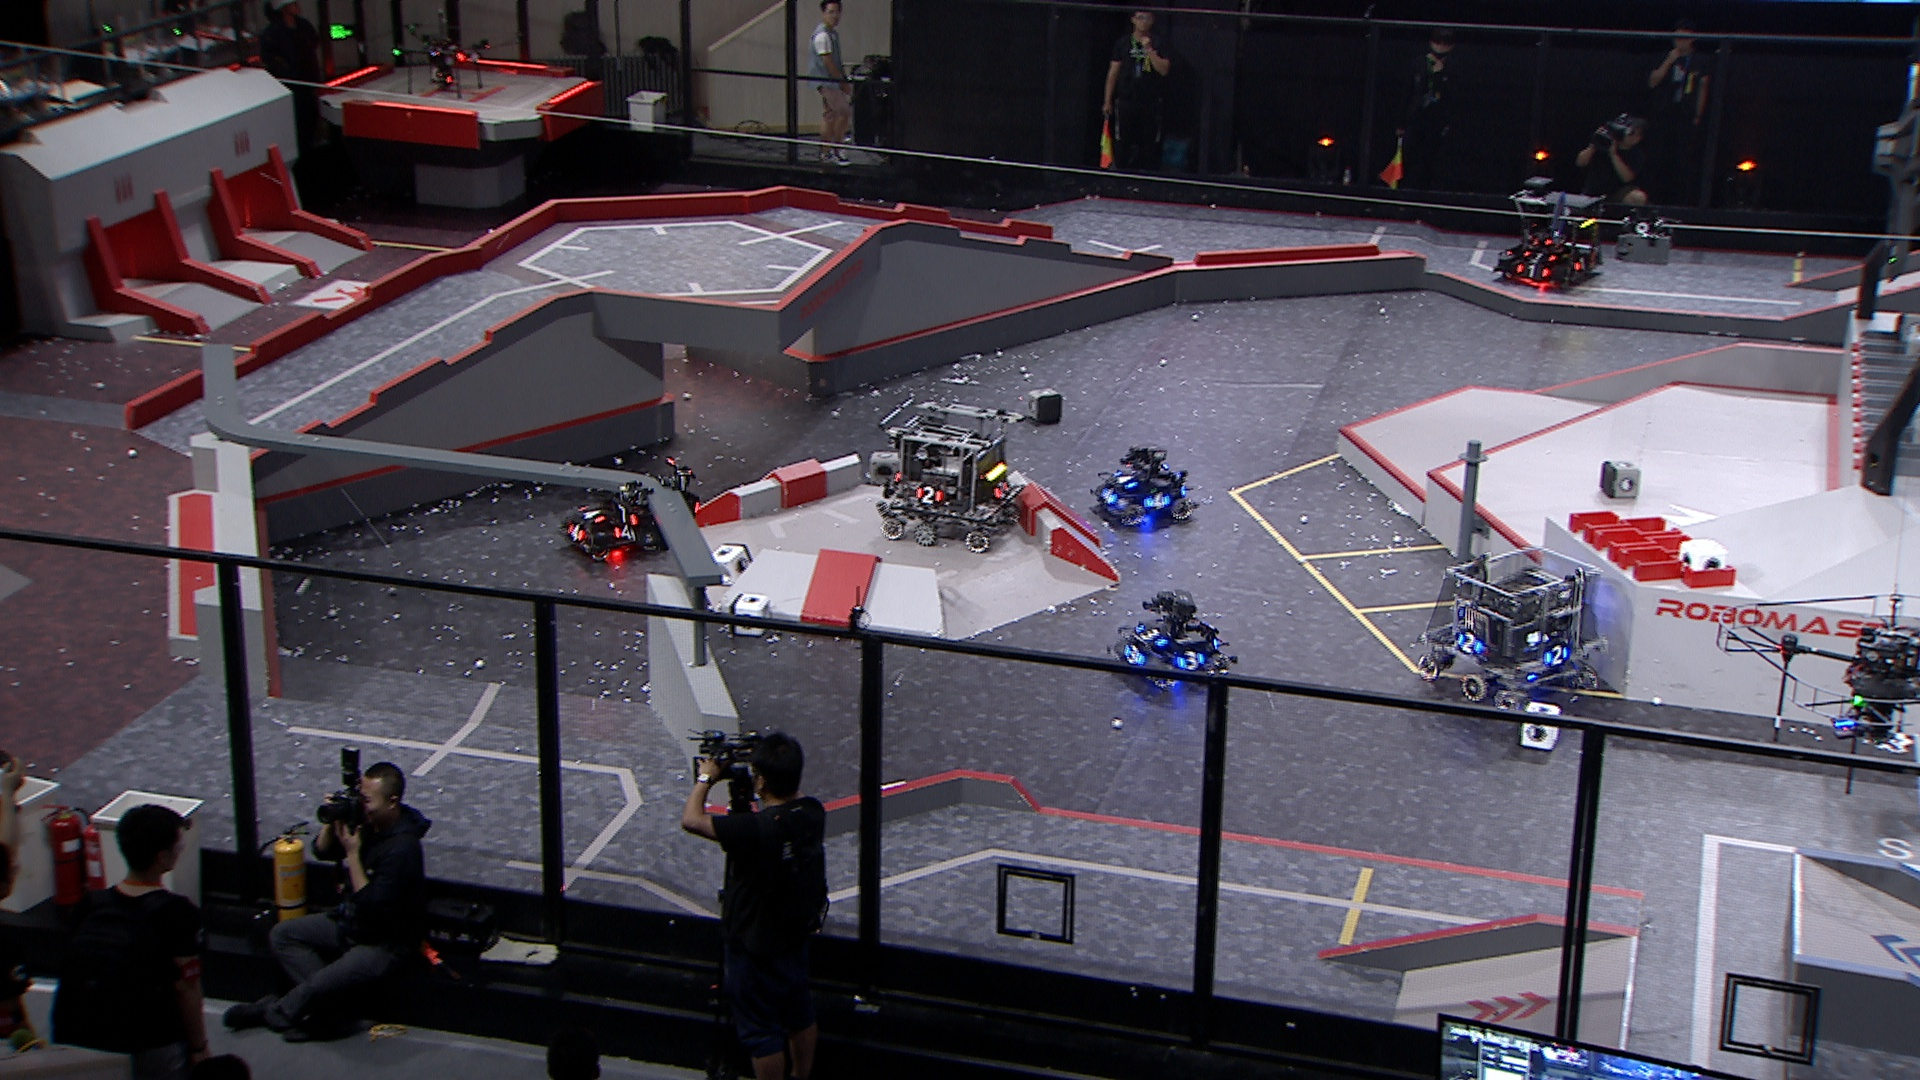armor: (1133, 621, 1168, 646), (1455, 629, 1486, 655), (611, 500, 638, 526), (1176, 647, 1205, 673), (1542, 642, 1571, 665), (1514, 261, 1549, 278), (1112, 469, 1138, 489), (915, 487, 942, 505), (564, 522, 588, 542), (1143, 491, 1168, 509), (579, 505, 605, 522), (1122, 645, 1145, 665), (992, 479, 1011, 498), (1098, 488, 1120, 506), (1523, 248, 1557, 258), (1571, 256, 1592, 272), (613, 524, 629, 541)
car: (1415, 547, 1607, 719), (877, 398, 1026, 553), (1109, 584, 1233, 692), (1495, 173, 1604, 289), (556, 471, 666, 560), (1088, 443, 1199, 529)
watcher: (605, 455, 707, 551)
